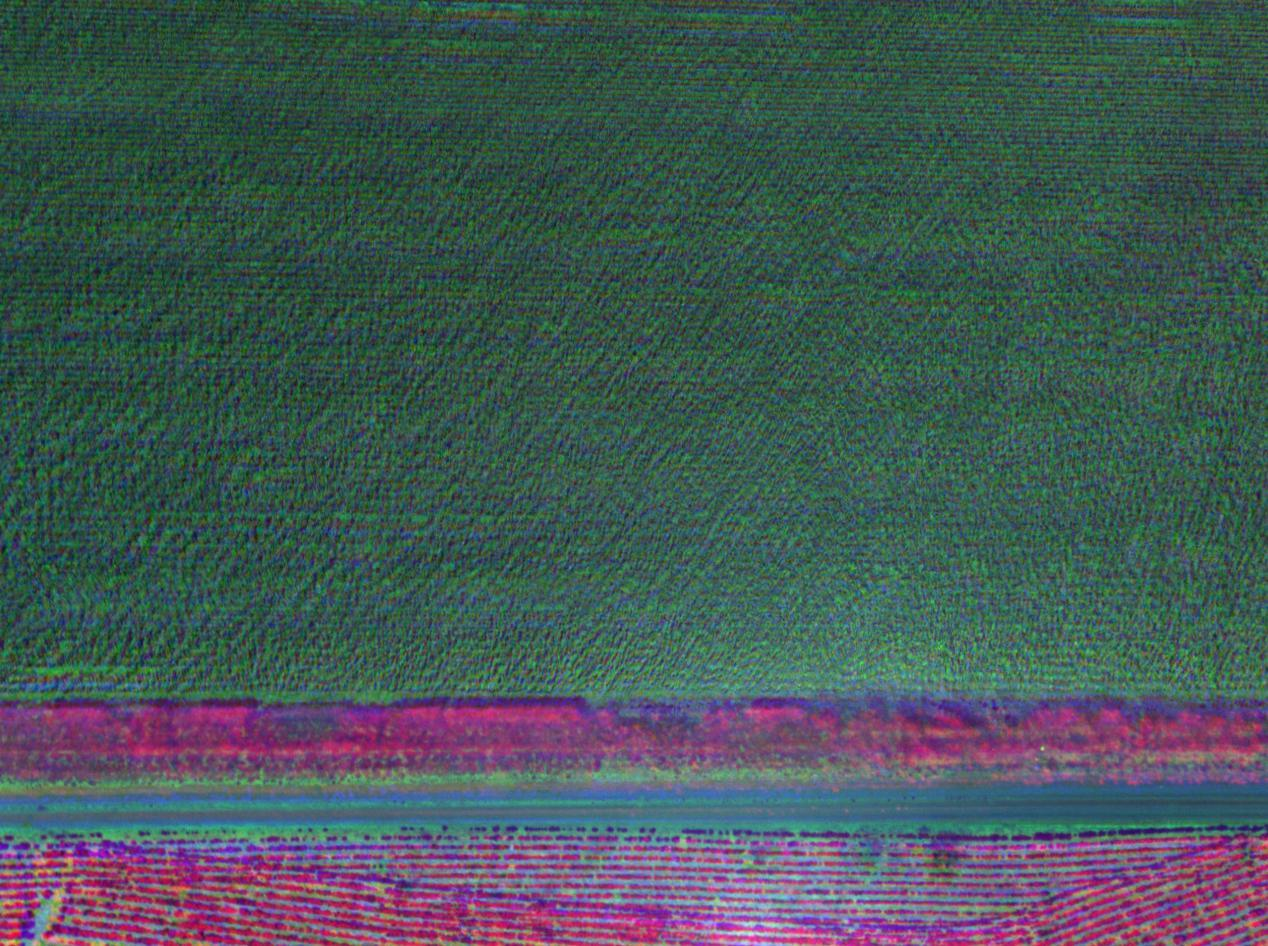dc: (911, 827, 995, 912), (20, 886, 79, 946)
